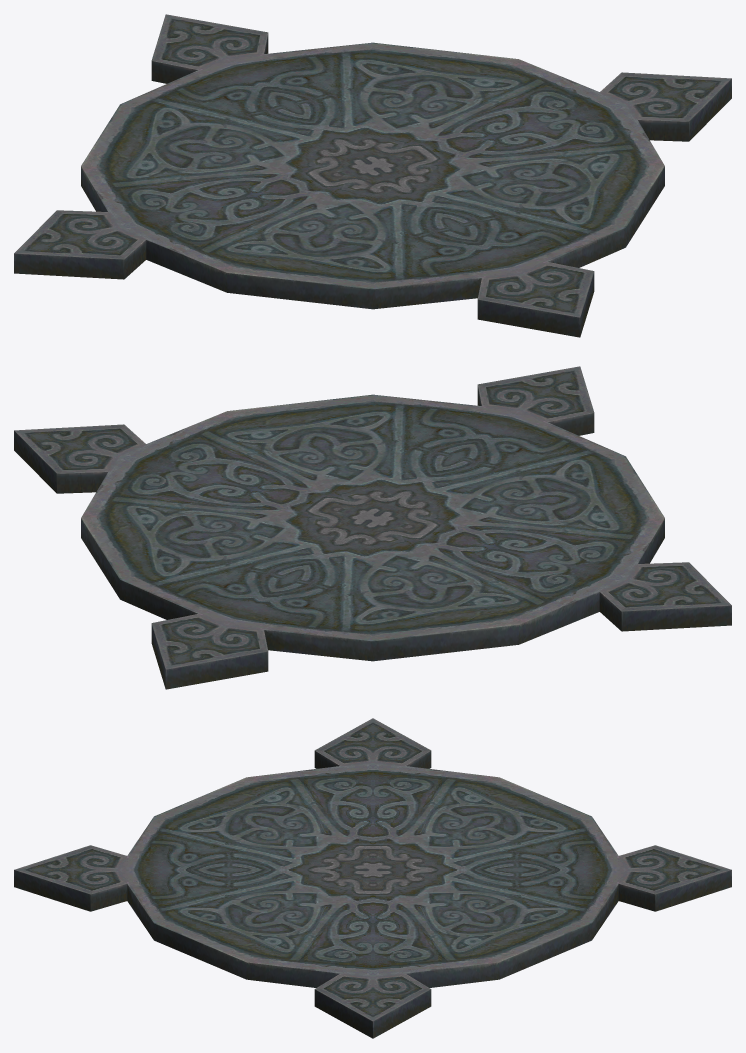
The model's file is environment_common_dibiaoshipan_001_a.FBX.
The picture shows the model from 3 angles, top to bottom: view 1: azimuth 30°, elevation 25°; view 2: azimuth 150°, elevation 25°; view 3: azimuth 270°, elevation 25°; orthographic projection. The views are drawn at different scales.
Visible parts, largest first — view 1: environment_common_dibiaoshipan_001_a; view 2: environment_common_dibiaoshipan_001_a; view 3: environment_common_dibiaoshipan_001_a.
Part boxes in pixels (left/top/right/bottom): environment_common_dibiaoshipan_001_a: left=14, top=14, right=731, bottom=337; environment_common_dibiaoshipan_001_a: left=14, top=366, right=731, bottom=689; environment_common_dibiaoshipan_001_a: left=14, top=718, right=731, bottom=1038.
Size of the model in its own units: 521 by 13.81 by 521.
